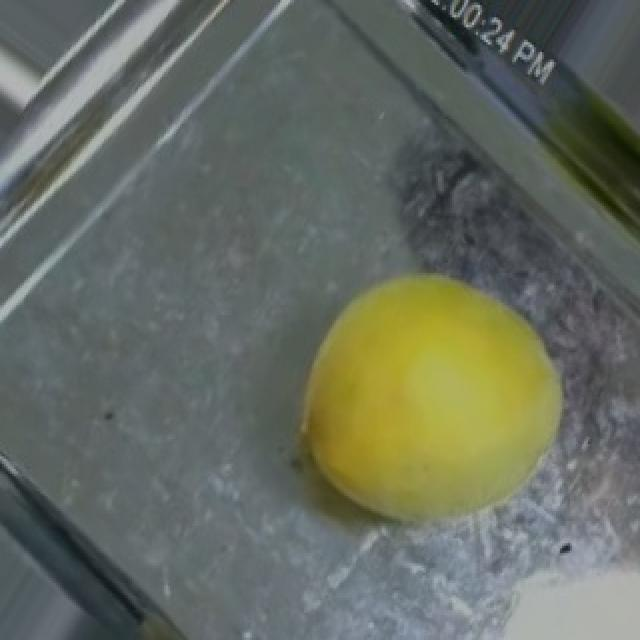fruit: (246, 211, 604, 568)
